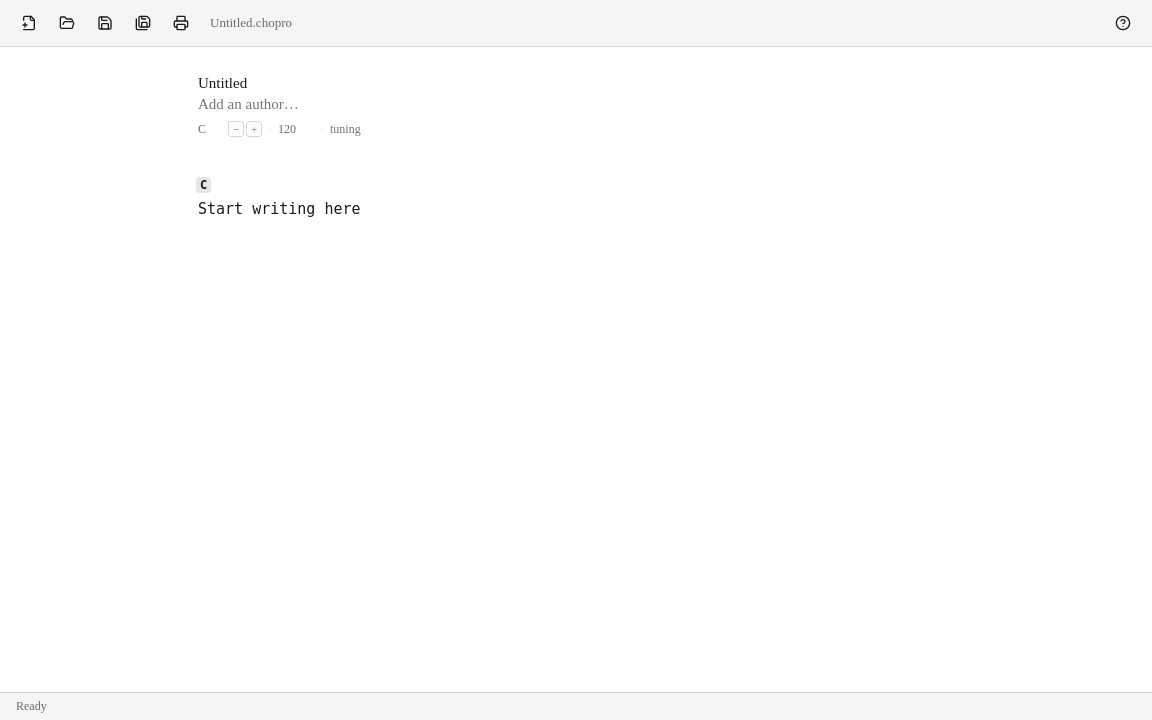
keyboard navigation between lines › displays a high-fret chord (e.g. 13 12) with a fret-position label instead of clipping it off
This screenshot has width=1152, height=720.
Press / in the 1st text box named "Lyric line", box 198,197 -> 954,221
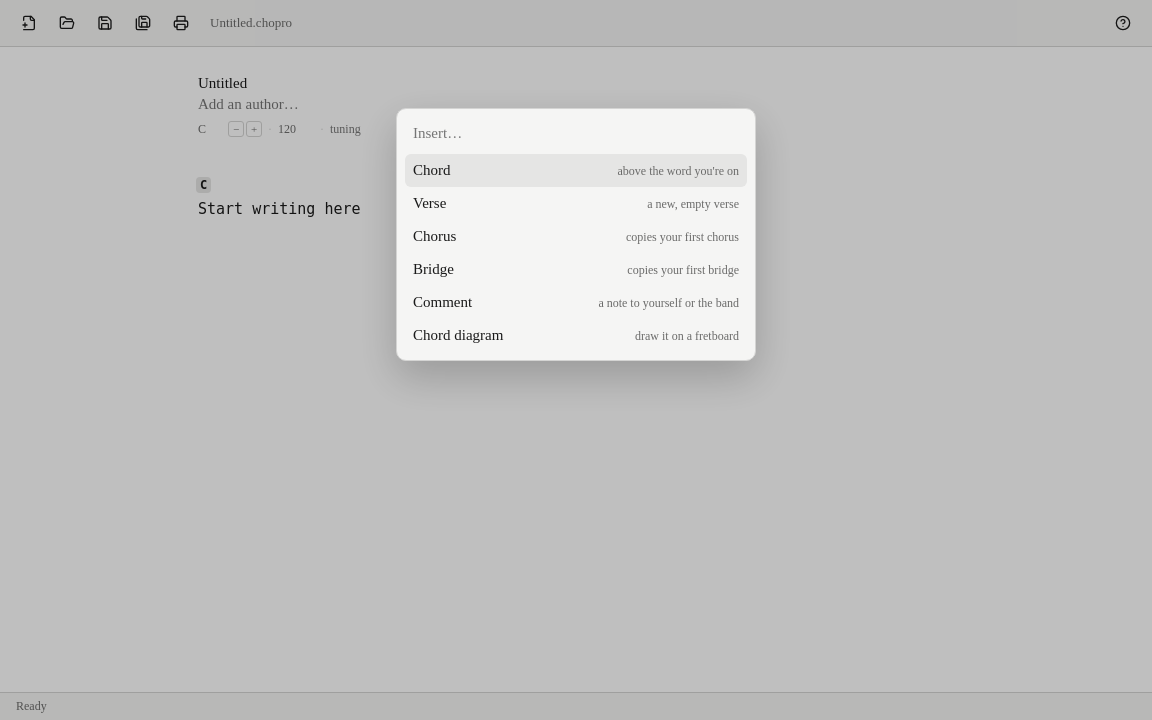
Type "Chord diagram" into the field named "Command palette" at coordinates (576, 134), box 405,117 -> 747,150
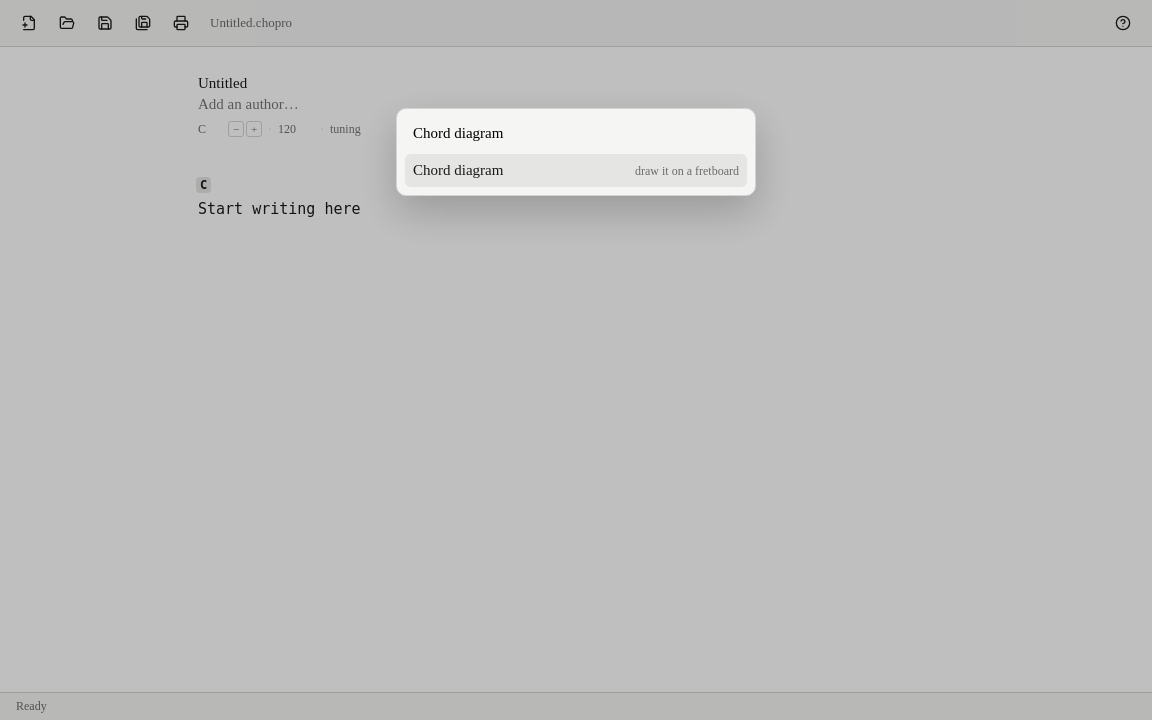
Press Enter in the field named "Command palette", box 405,117 -> 747,150
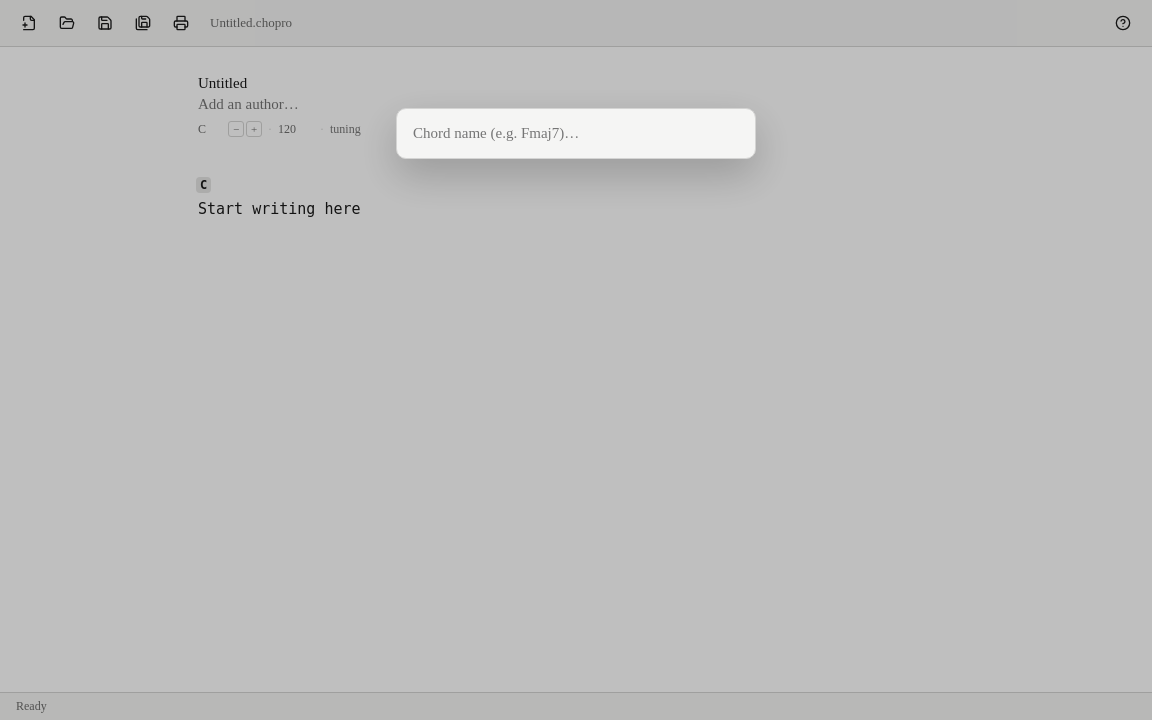
Type "F" into the field labelled "Chord name" at coordinates (576, 134), box 405,117 -> 747,150
Press Enter in the field named "Chord name", box 405,117 -> 747,150
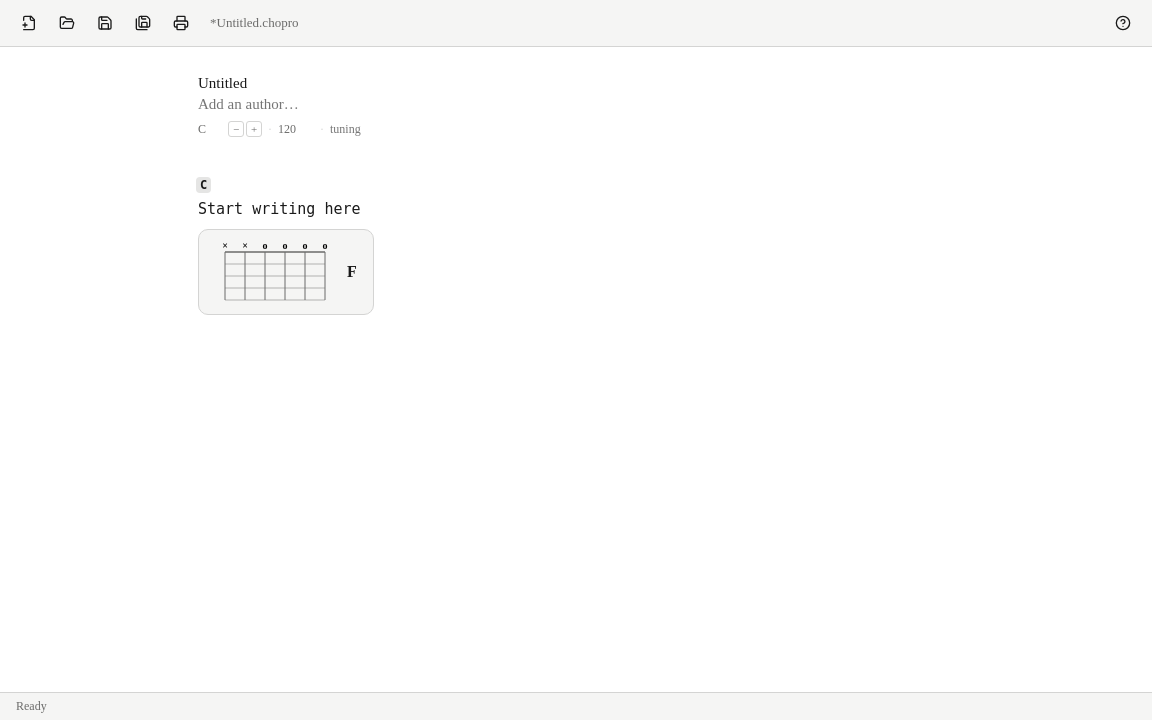
Click the button named "Chord definition for F" at coordinates (286, 272), box 198,229 -> 374,315
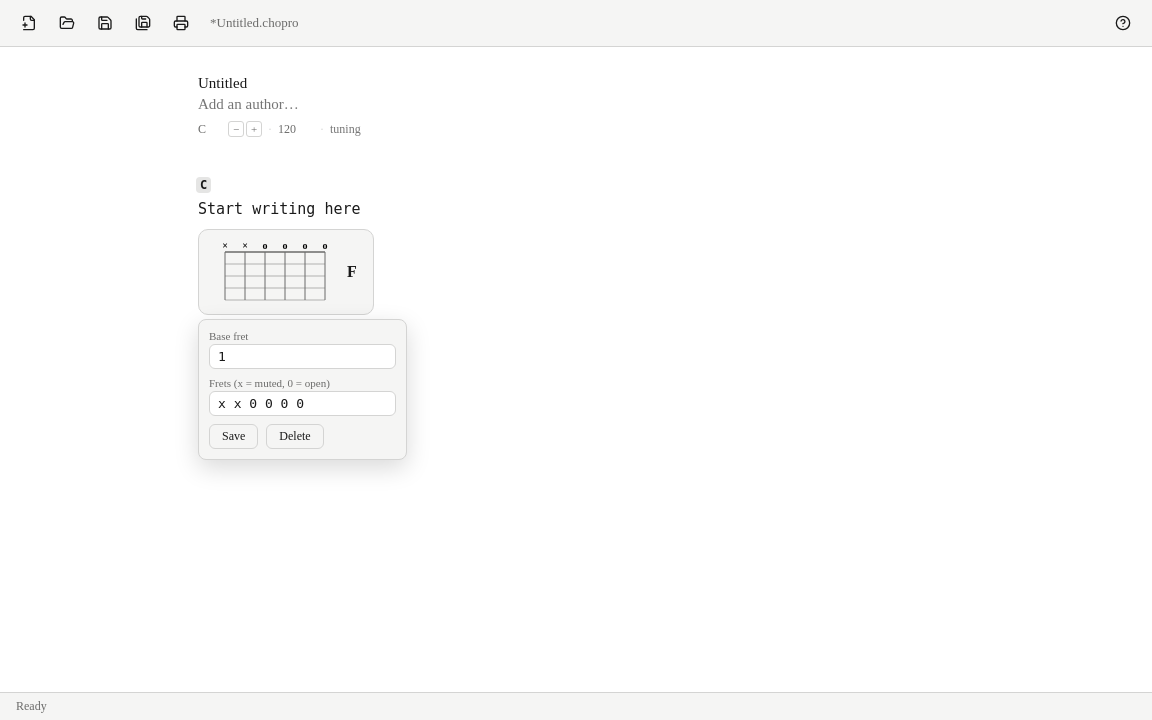
Replace the text in the field labelled "Frets (x = muted, 0 = open)" with "13 12 0 0 x x" at coordinates (302, 404), box 209,391 -> 396,416
Click the button "Save" at coordinates (234, 436), box 209,424 -> 258,449
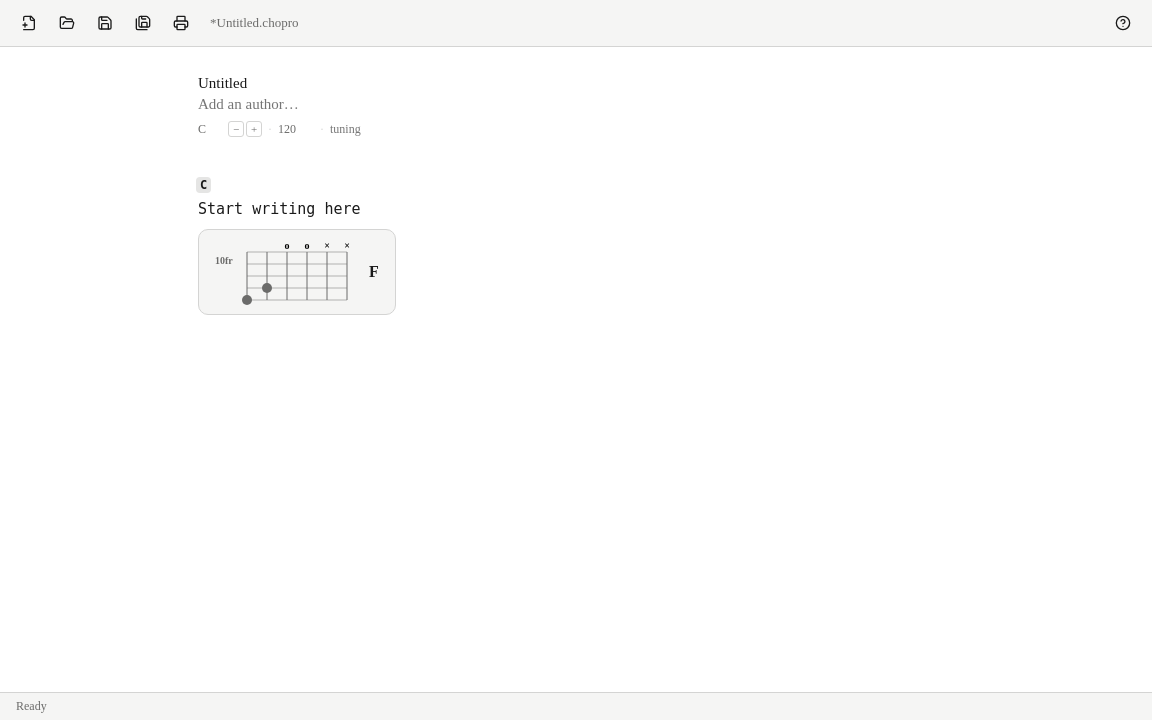
Expected: the label labelled "Base fret" is gone
Expected: the icon "10fr o o × ×" is shown, 215,238 -> 357,306
